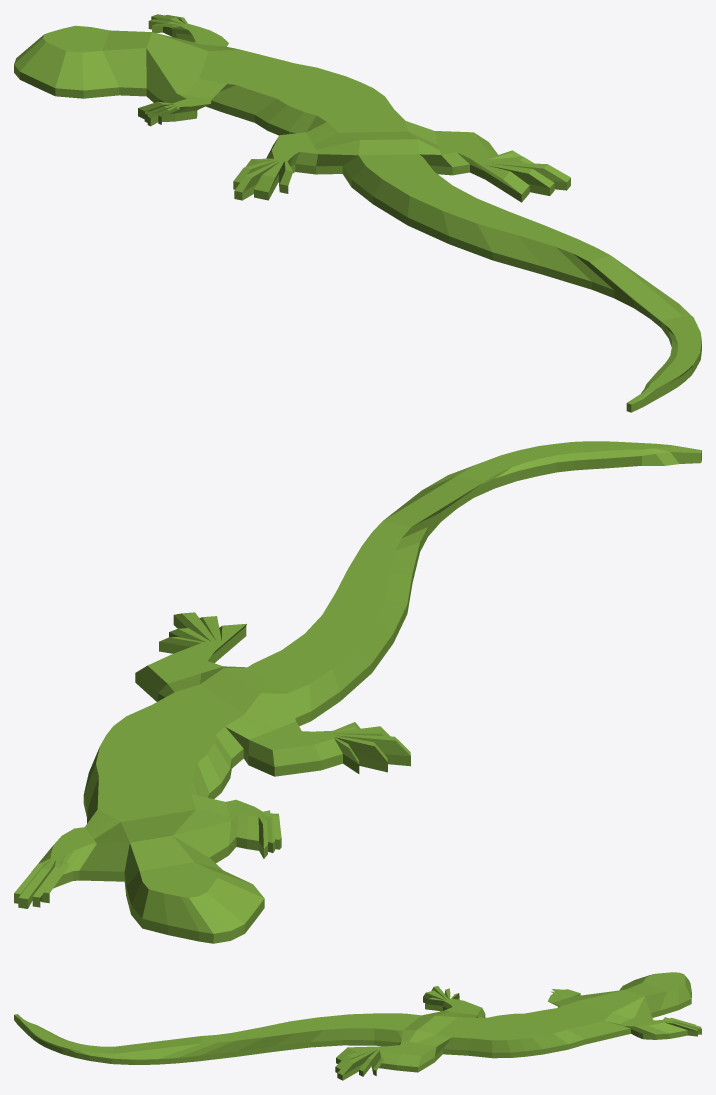
Rendered from LIZARD.fbx.
The picture shows the model from 3 angles, top to bottom: view 1: azimuth 30°, elevation 25°; view 2: azimuth 150°, elevation 25°; view 3: azimuth 270°, elevation 25°; orthographic projection. The views are drawn at different scales.
Parts seen in each view (by area): view 1: Plane; view 2: Plane; view 3: Plane.
Part boxes in pixels (left/top/right/bottom): Plane: left=14, top=14, right=701, bottom=412; Plane: left=14, top=441, right=701, bottom=943; Plane: left=14, top=972, right=701, bottom=1080.
Bounding box in the file's own units: 53.37 × 5.64 × 157.
